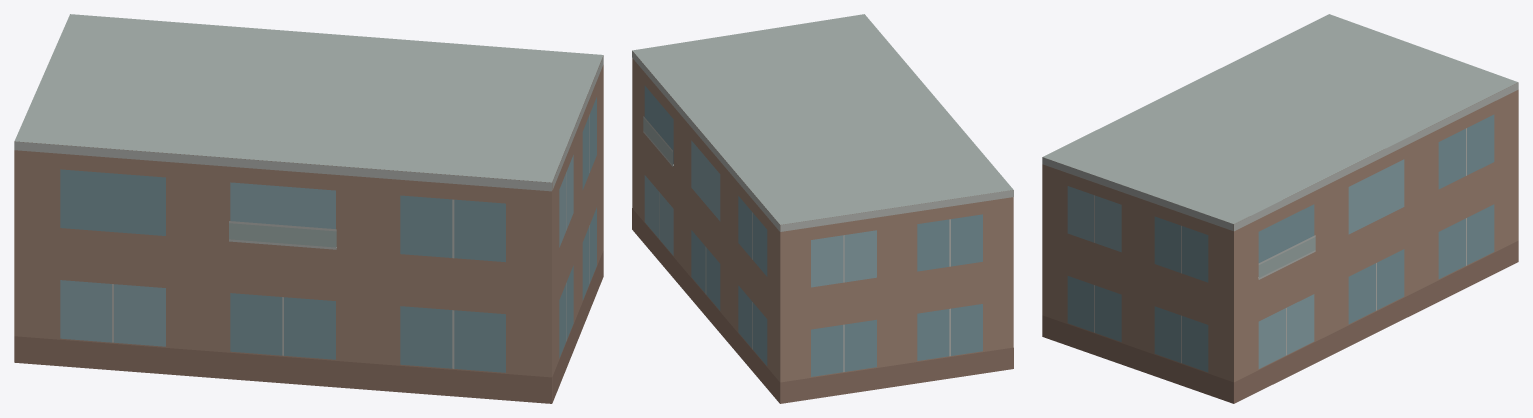
The model's file is survey-upis-32655977.glb.
The picture shows the model from 3 angles, left to right: view 1: azimuth 30°, elevation 25°; view 2: azimuth 150°, elevation 25°; view 3: azimuth 270°, elevation 25°; orthographic projection. The views are drawn at different scales.
Visible parts, largest first — view 1: survey-upis-32655977.tmp; view 2: survey-upis-32655977.tmp; view 3: survey-upis-32655977.tmp.
Part boxes in pixels (box(x1,y1,x2,y2)): survey-upis-32655977.tmp: box(14, 14, 603, 403); survey-upis-32655977.tmp: box(632, 14, 1013, 403); survey-upis-32655977.tmp: box(1042, 14, 1518, 403).
Bounding box in the file's own units: 15.31 × 6.1 × 14.66.
